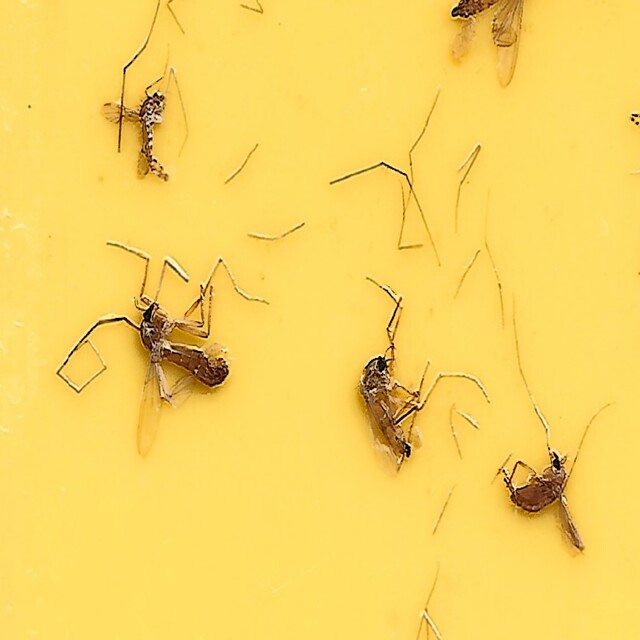Nematocera: (56, 236, 277, 461), (500, 446, 584, 555), (354, 351, 428, 469), (99, 85, 172, 191)
